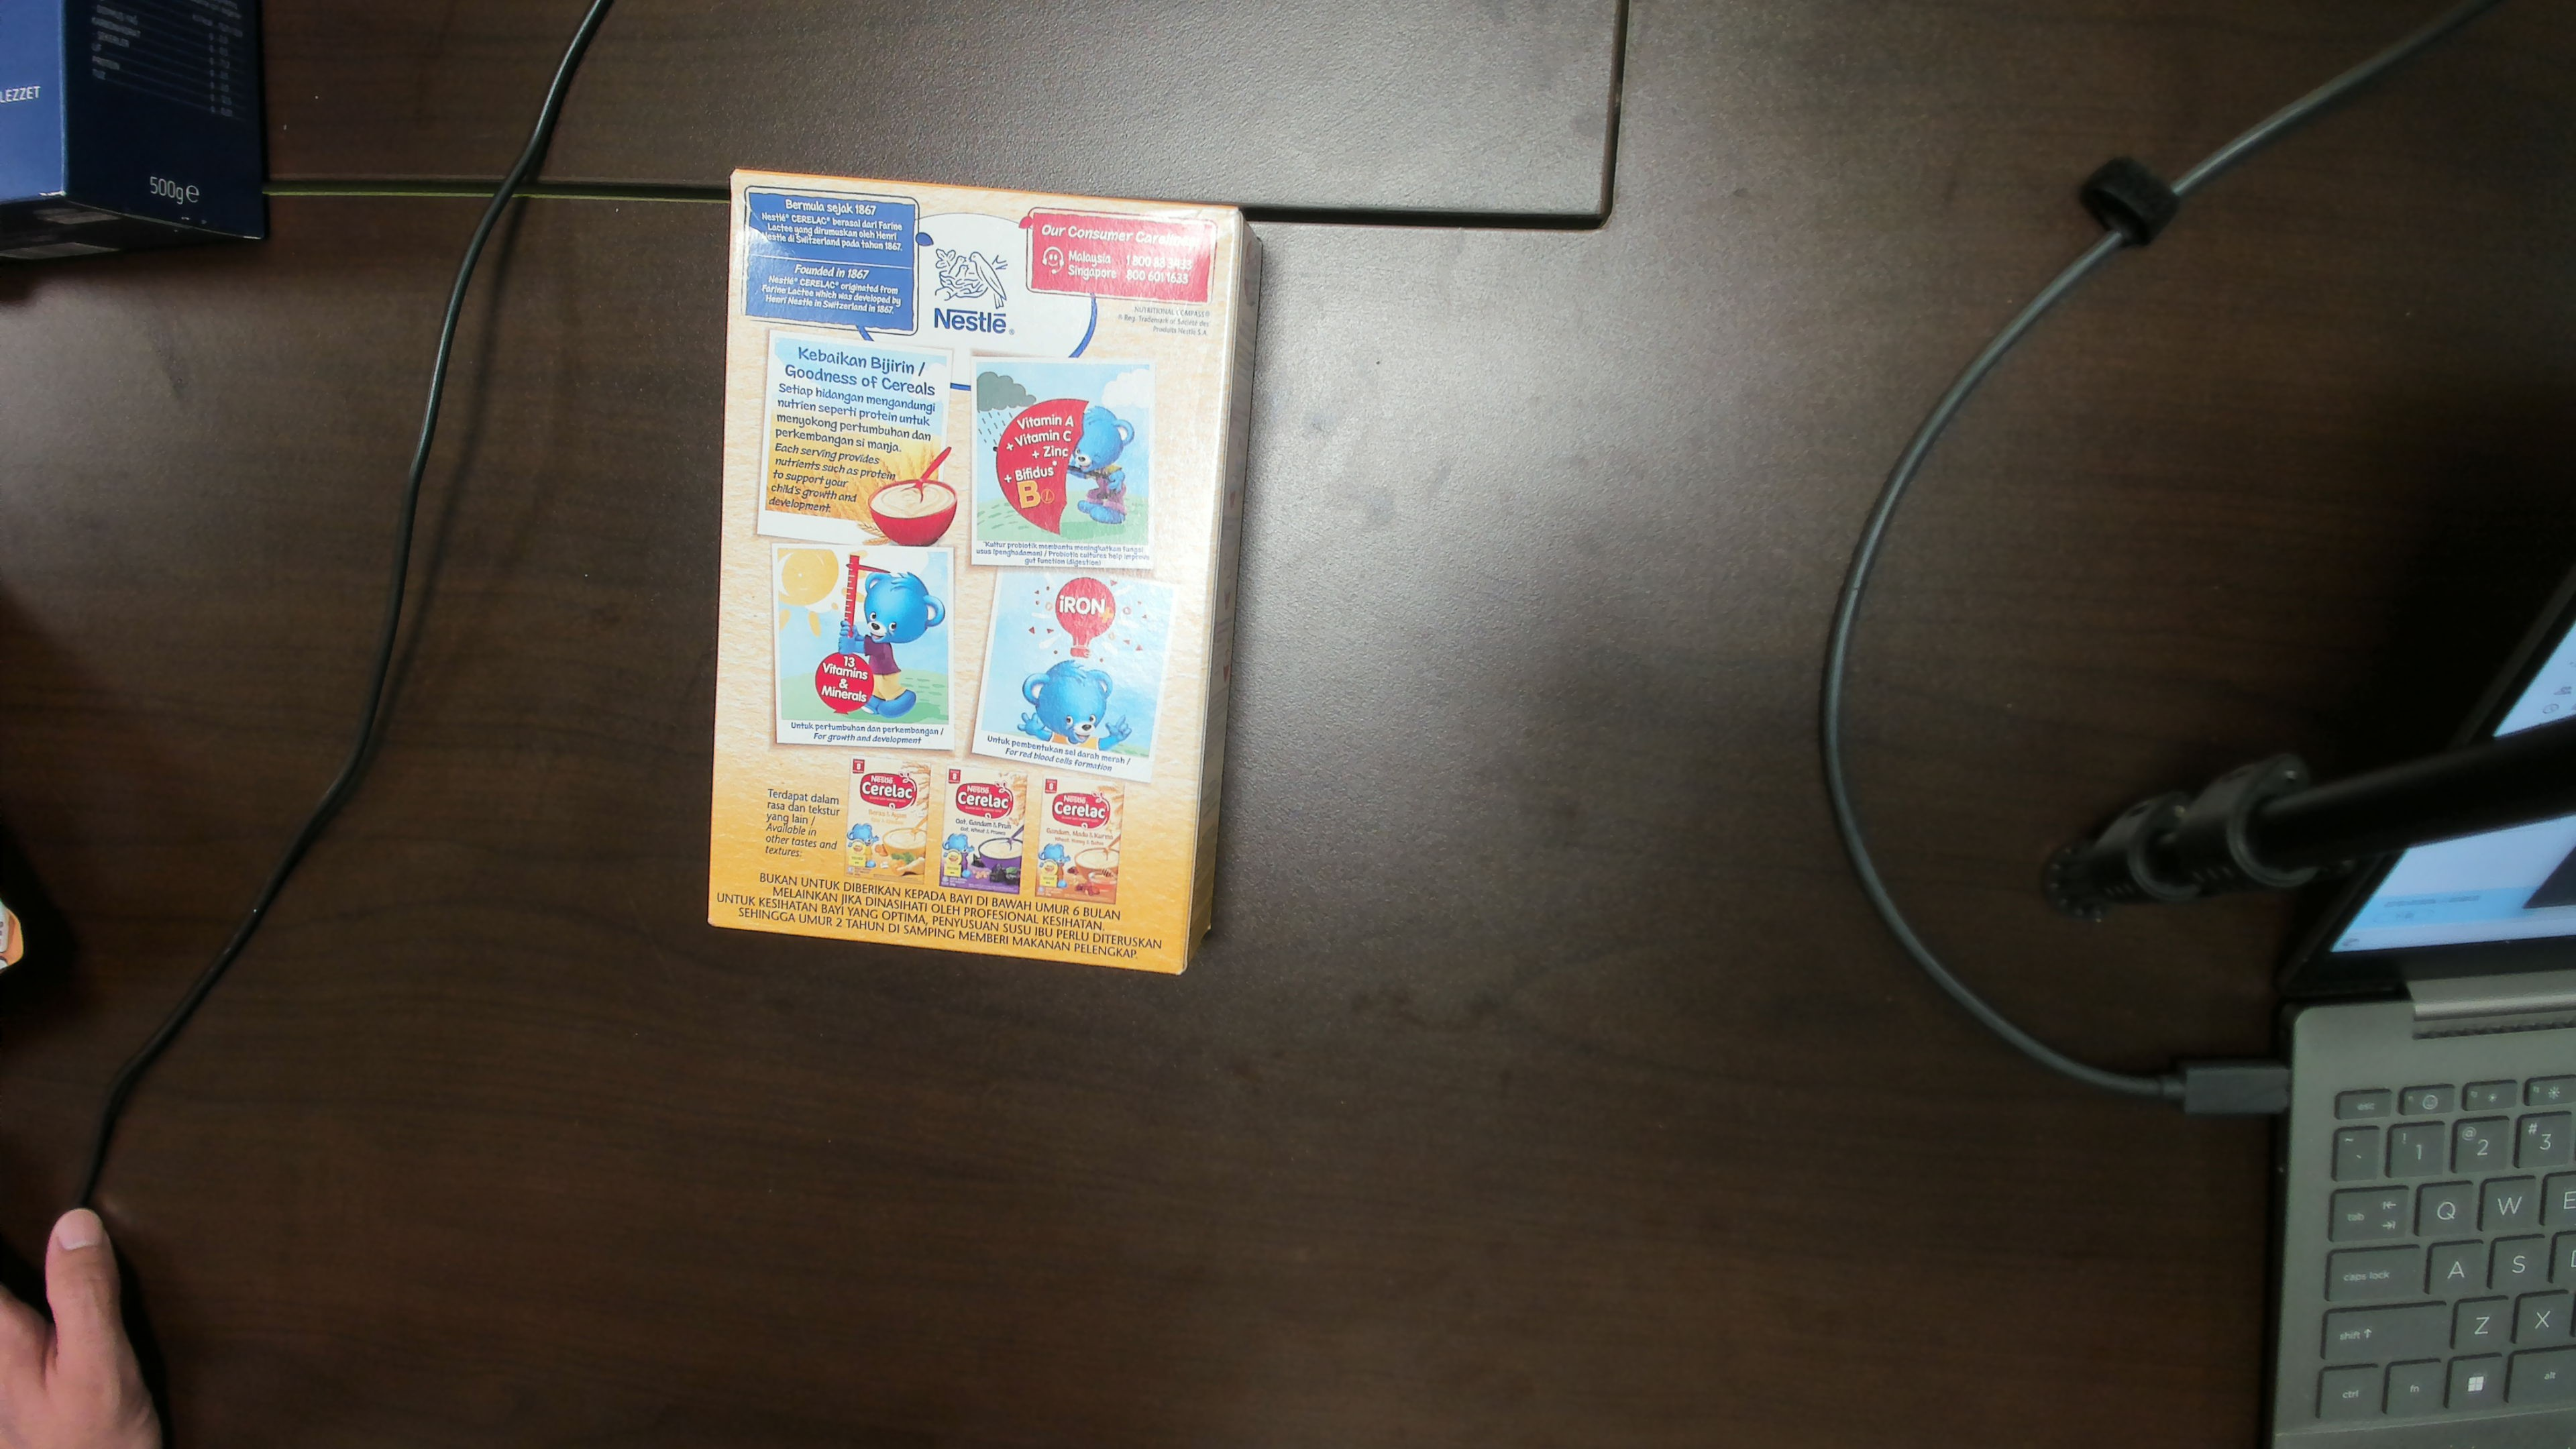Babyfood_200-299g_Halal_NonHealthy: (743, 225, 1192, 936)
